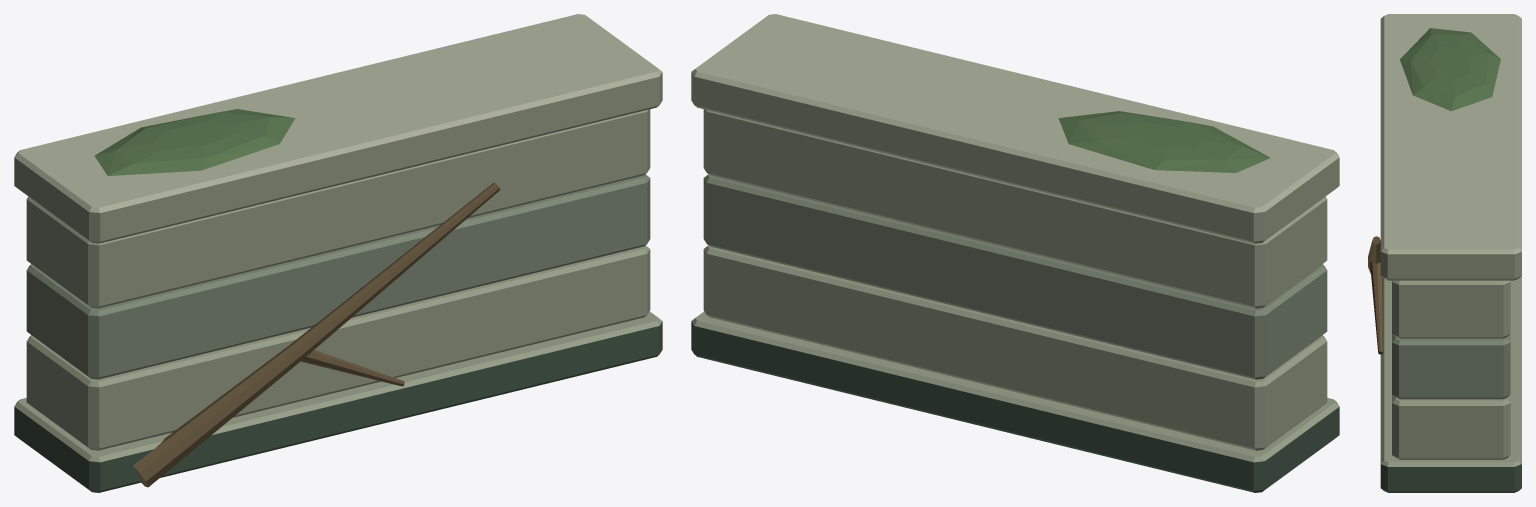
The model's file is wall-straight.glb.
The picture shows the model from 3 angles, left to right: view 1: azimuth 30°, elevation 25°; view 2: azimuth 150°, elevation 25°; view 3: azimuth 270°, elevation 25°; orthographic projection. The views are drawn at different scales.
Parts seen in each view (by area): view 1: wall-straight__body; view 2: wall-straight__body; view 3: wall-straight__body.
Boxes of the visible parts, x1,y1,x2,y2 form: wall-straight__body: (14, 14, 662, 492); wall-straight__body: (691, 14, 1339, 492); wall-straight__body: (1368, 14, 1521, 492).
Bounding box in the file's own units: 2 × 0.9946 × 0.545.
